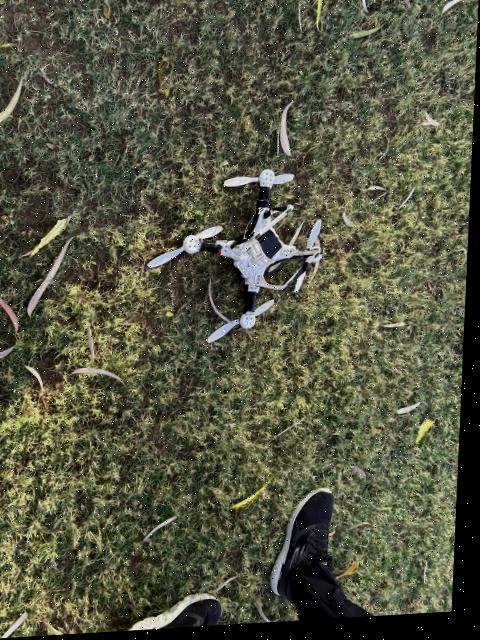drone: (161, 168, 338, 351)
